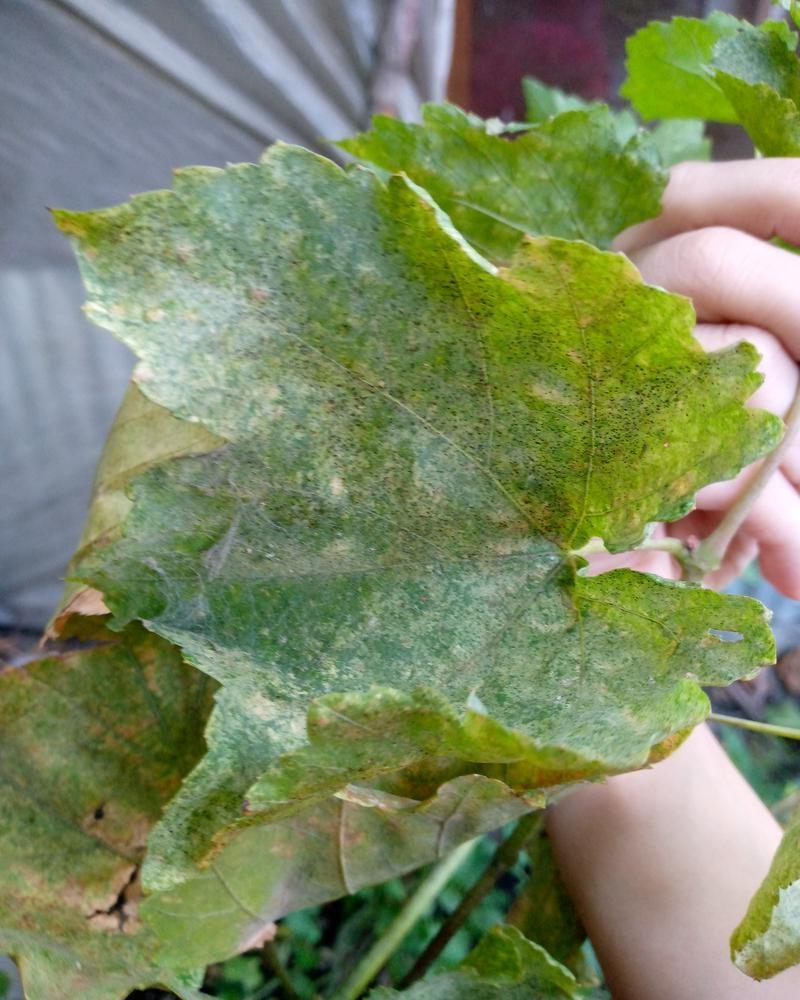Powdery-Mildew: (434, 539, 692, 769), (141, 624, 322, 894), (67, 207, 252, 414), (197, 155, 406, 281), (597, 386, 766, 530), (200, 288, 334, 454), (183, 525, 375, 610), (584, 261, 691, 366), (407, 416, 513, 513), (514, 234, 577, 297), (527, 372, 590, 435), (315, 440, 378, 503), (415, 632, 478, 695)
